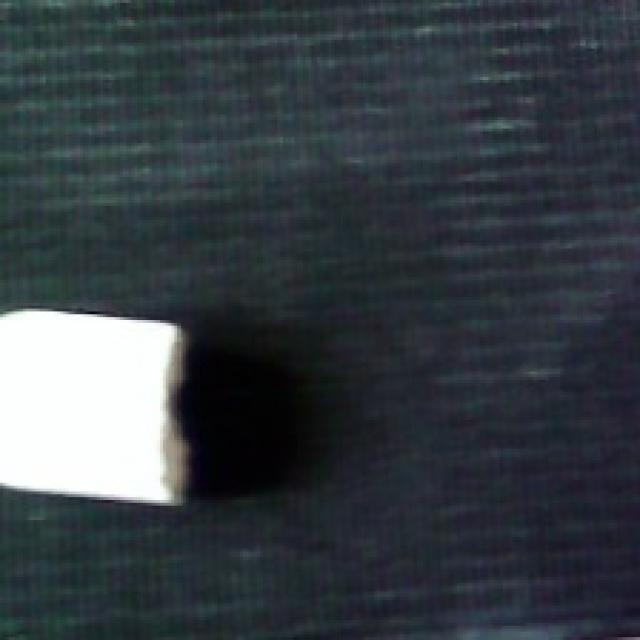defected: (0, 297, 200, 503)
